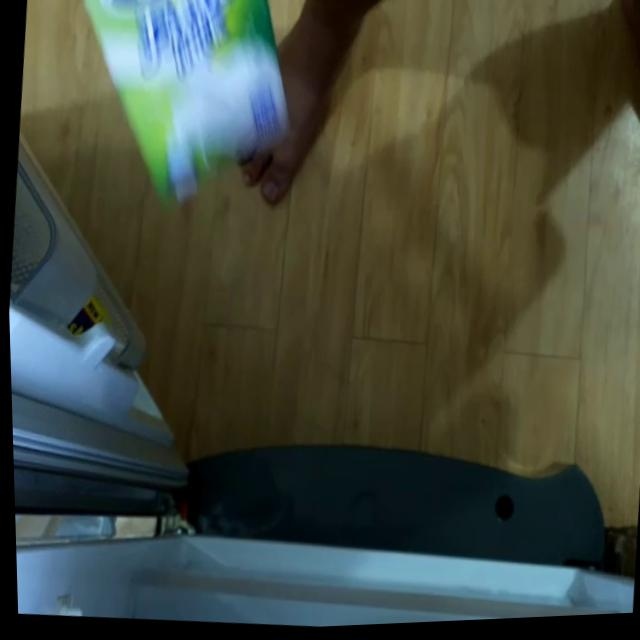milk: (47, 0, 312, 228)
